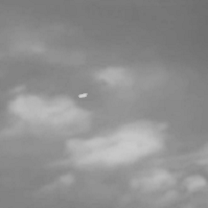Target: (77, 92, 89, 99)
